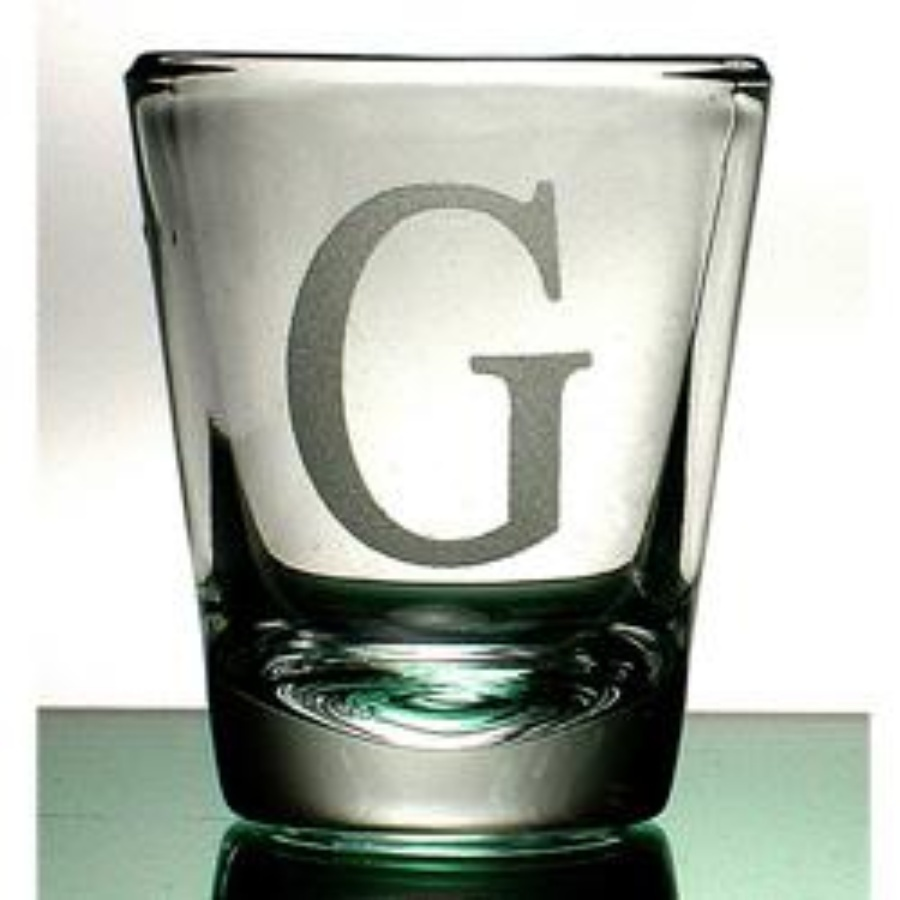whiskey: (164, 52, 775, 820)
